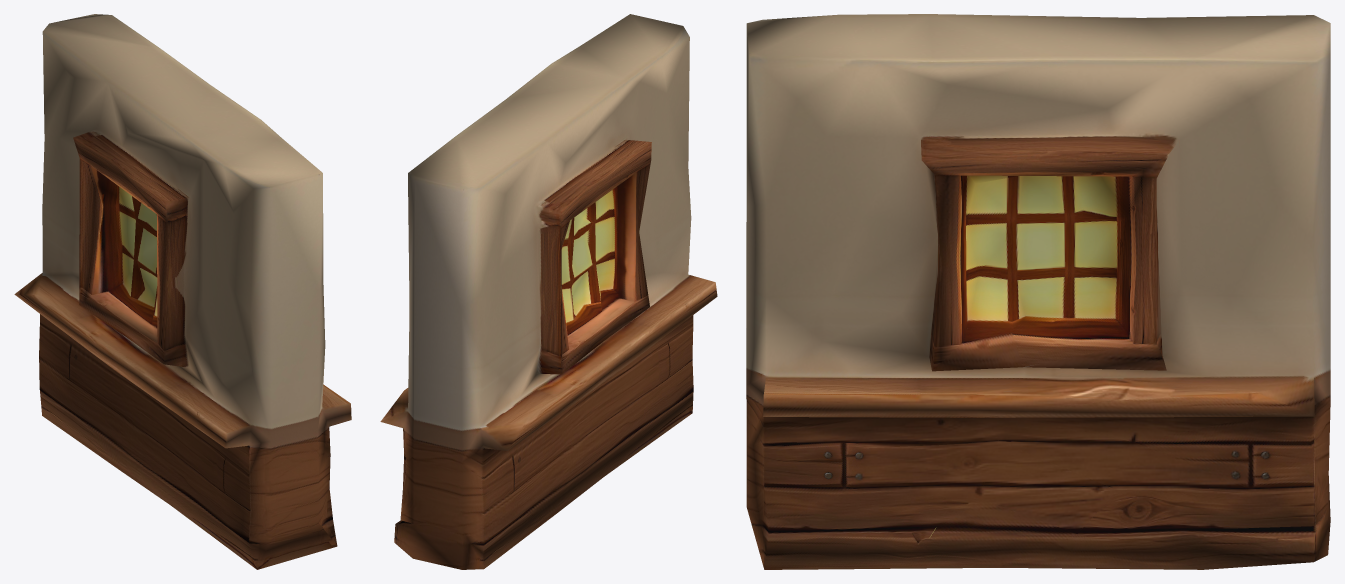
File: tripo_convert_e50f4b5d-f55f-4921-afb6-0607b23d503f.fbx
3 renders of one model, left to right at view 1: azimuth 30°, elevation 25°; view 2: azimuth 150°, elevation 25°; view 3: azimuth 270°, elevation 25°, orthographic. The views are drawn at different scales.
Parts seen in each view (by area): view 1: tripo_node_e50f4b5d; view 2: tripo_node_e50f4b5d; view 3: tripo_node_e50f4b5d.
Part boxes in pixels (left/top/right/bottom): tripo_node_e50f4b5d: left=14, top=14, right=351, bottom=569; tripo_node_e50f4b5d: left=380, top=14, right=717, bottom=569; tripo_node_e50f4b5d: left=746, top=14, right=1330, bottom=569.
Size of the model in its own units: 0.3221 by 0.9262 by 0.979.
Materials: 1 (1 with a texture image).
